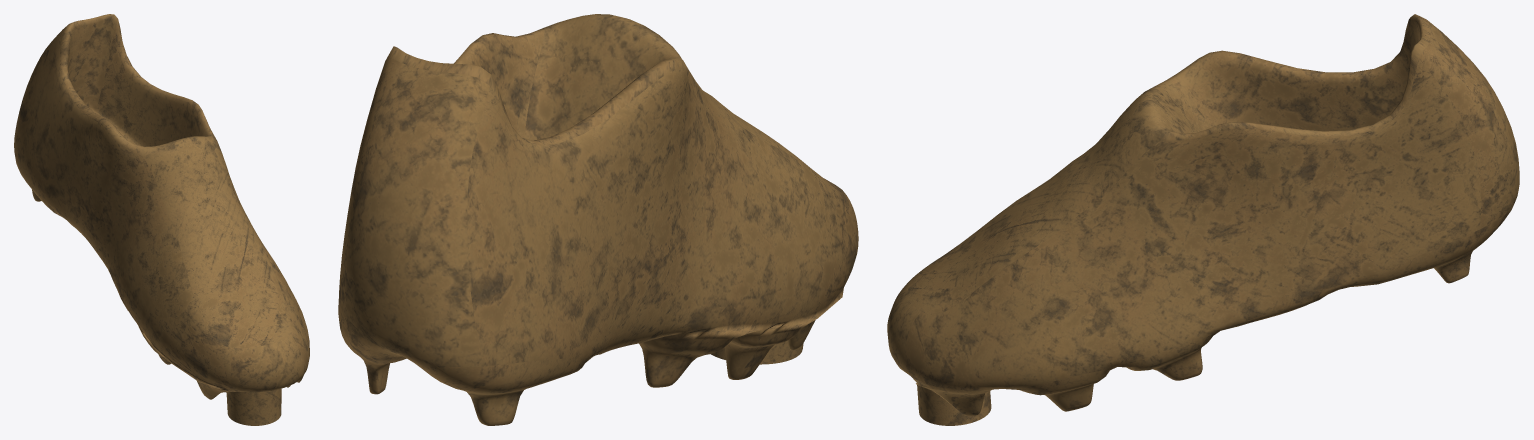
The model's file is Botin de Oro Test.gltf.
3 renders of one model, left to right at view 1: azimuth 30°, elevation 25°; view 2: azimuth 150°, elevation 25°; view 3: azimuth 270°, elevation 25°, orthographic. The views are drawn at different scales.
Visible parts, largest first — view 1: Botin de Oro Messi; view 2: Botin de Oro Messi; view 3: Botin de Oro Messi.
Part boxes in pixels (<box>): Botin de Oro Messi: <box>14,14,309,425</box>; Botin de Oro Messi: <box>338,14,858,425</box>; Botin de Oro Messi: <box>887,14,1519,425</box>.
Bounding box in the file's own units: 1.56 × 2.88 × 4.29.
1 material, 1 textured.
